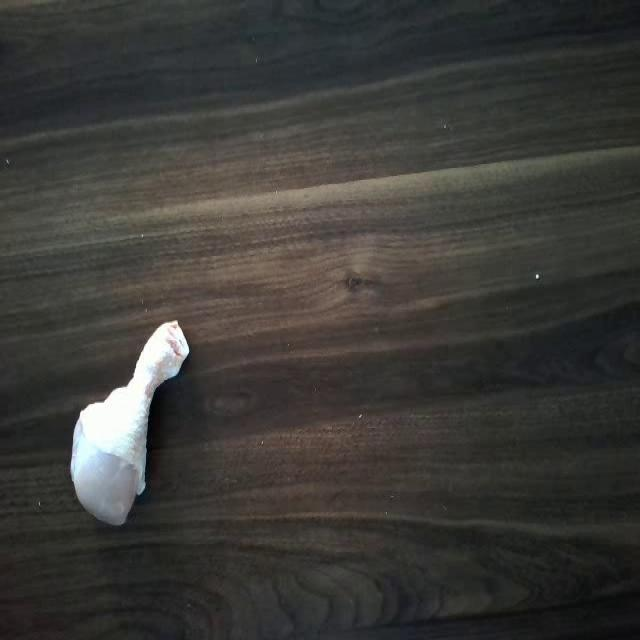leg: (64, 318, 185, 532)
